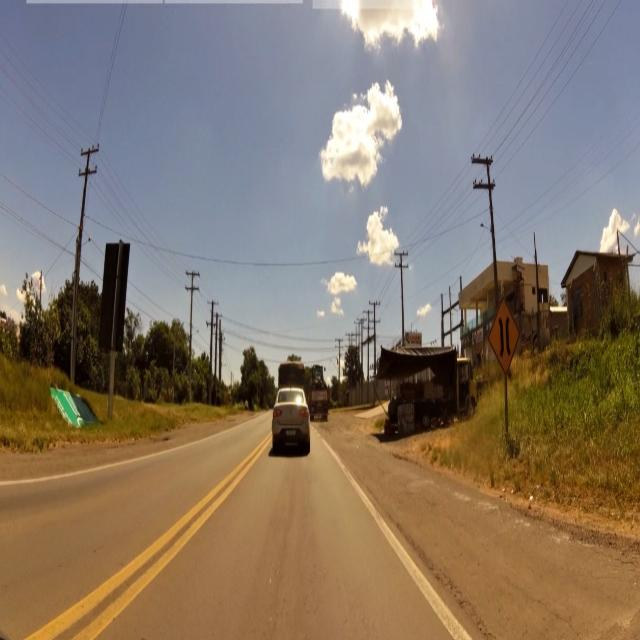A-22: (491, 300, 519, 380)
